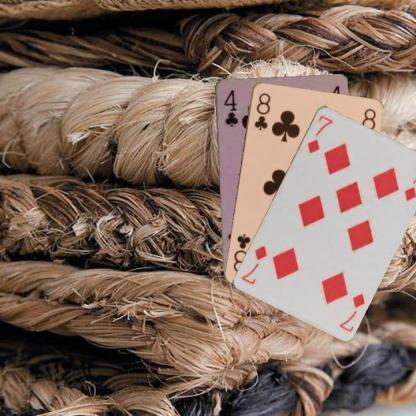4c: (221, 86, 239, 127)
7d: (304, 112, 334, 155), (336, 290, 366, 333)
8c: (252, 90, 272, 132)
